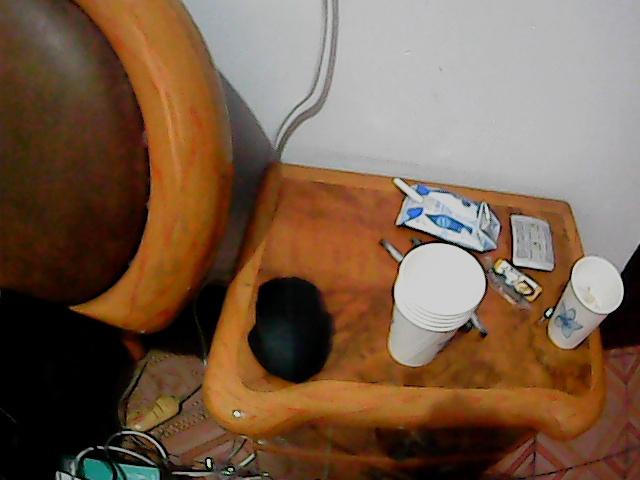cup: (391, 239, 485, 366)
mouse: (249, 273, 333, 378)
